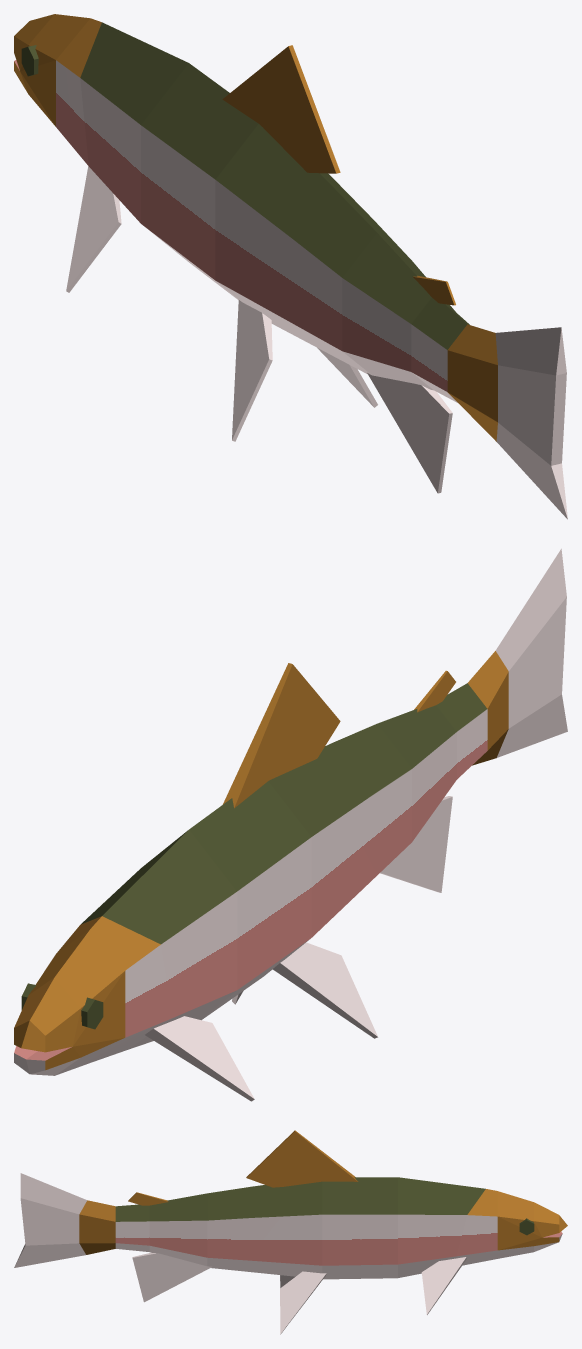
File: Mesh_Trout.obj
3 renders of one model, top to bottom at view 1: azimuth 30°, elevation 25°; view 2: azimuth 150°, elevation 25°; view 3: azimuth 270°, elevation 25°, orthographic. The views are drawn at different scales.
Parts seen in each view (by area): view 1: Mesh_Trout; view 2: Mesh_Trout; view 3: Mesh_Trout.
Boxes of the visible parts, left/top/right/bottom form: Mesh_Trout: left=14, top=14, right=567, bottom=519; Mesh_Trout: left=14, top=548, right=567, bottom=1101; Mesh_Trout: left=14, top=1130, right=567, bottom=1334.
Size of the model in its own units: 1.21 by 2.27 by 6.09.
Materials: 1 (1 with a texture image).
